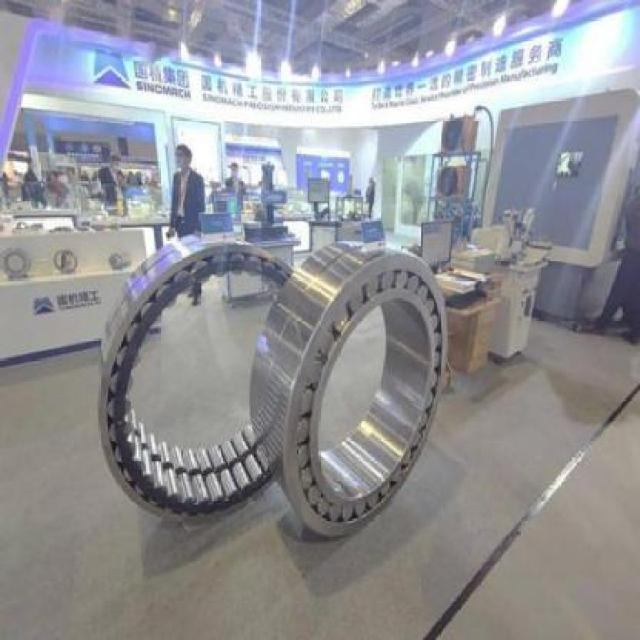Bearing: (246, 238, 451, 540), (97, 232, 296, 524)
